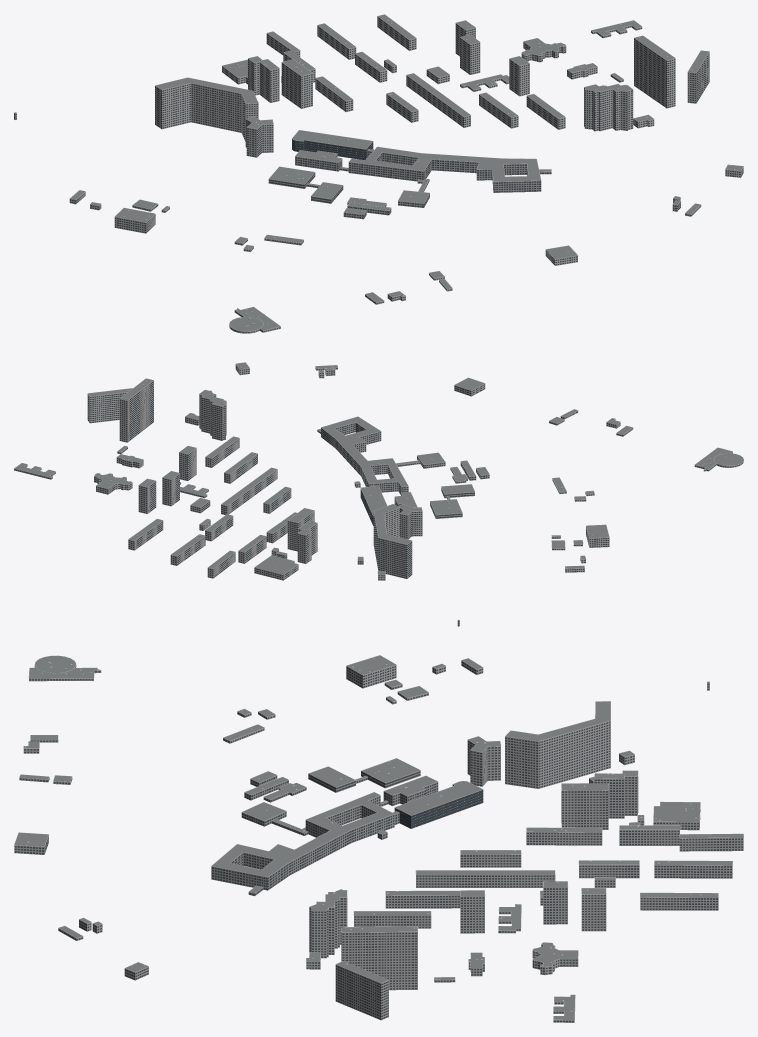
File: grounds-shell.glb
The picture shows the model from 3 angles, top to bottom: view 1: azimuth 30°, elevation 25°; view 2: azimuth 150°, elevation 25°; view 3: azimuth 270°, elevation 25°; orthographic projection. The views are drawn at different scales.
Parts seen in each view (by area): view 1: Residence elevation, Bituminous roof, Zinc coping, Academic elevation, Glazed elevation; view 2: Residence elevation, Bituminous roof, Zinc coping, Academic elevation; view 3: Residence elevation, Bituminous roof, Zinc coping, Academic elevation, Glazed elevation, Sports elevation.
Boxes of the visible parts, x1,y1,x2,y2 form: Residence elevation: [14, 16, 743, 333]; Bituminous roof: [15, 14, 743, 331]; Zinc coping: [14, 14, 743, 331]; Academic elevation: [295, 151, 551, 219]; Glazed elevation: [292, 139, 373, 159]; Residence elevation: [14, 364, 743, 626]; Bituminous roof: [14, 362, 743, 620]; Zinc coping: [14, 362, 743, 620]; Academic elevation: [317, 422, 489, 564]; Residence elevation: [14, 660, 743, 1022]; Bituminous roof: [14, 655, 743, 1019]; Zinc coping: [14, 655, 743, 1020]; Academic elevation: [211, 775, 594, 896]; Glazed elevation: [394, 785, 483, 828]; Sports elevation: [308, 771, 420, 792].
Bounding box in the file's own units: 1024 × 76.71 × 867.
7 materials, 4 textured.
